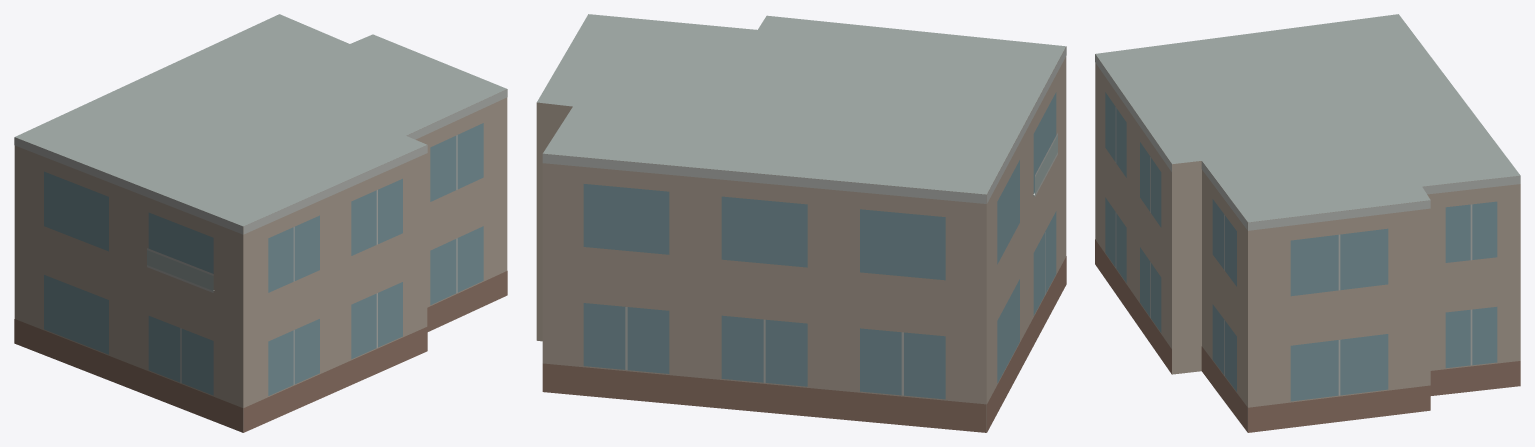
The model's file is survey-upis-32914503.glb.
The picture shows the model from 3 angles, left to right: view 1: azimuth 30°, elevation 25°; view 2: azimuth 150°, elevation 25°; view 3: azimuth 270°, elevation 25°; orthographic projection. The views are drawn at different scales.
Parts seen in each view (by area): view 1: survey-upis-32914503.tmp; view 2: survey-upis-32914503.tmp; view 3: survey-upis-32914503.tmp.
Boxes of the visible parts, x1,y1,x2,y2 form: survey-upis-32914503.tmp: [14, 14, 507, 432]; survey-upis-32914503.tmp: [536, 14, 1066, 432]; survey-upis-32914503.tmp: [1095, 14, 1520, 432].
Size of the model in its own units: 12.97 by 6.1 by 11.19.
